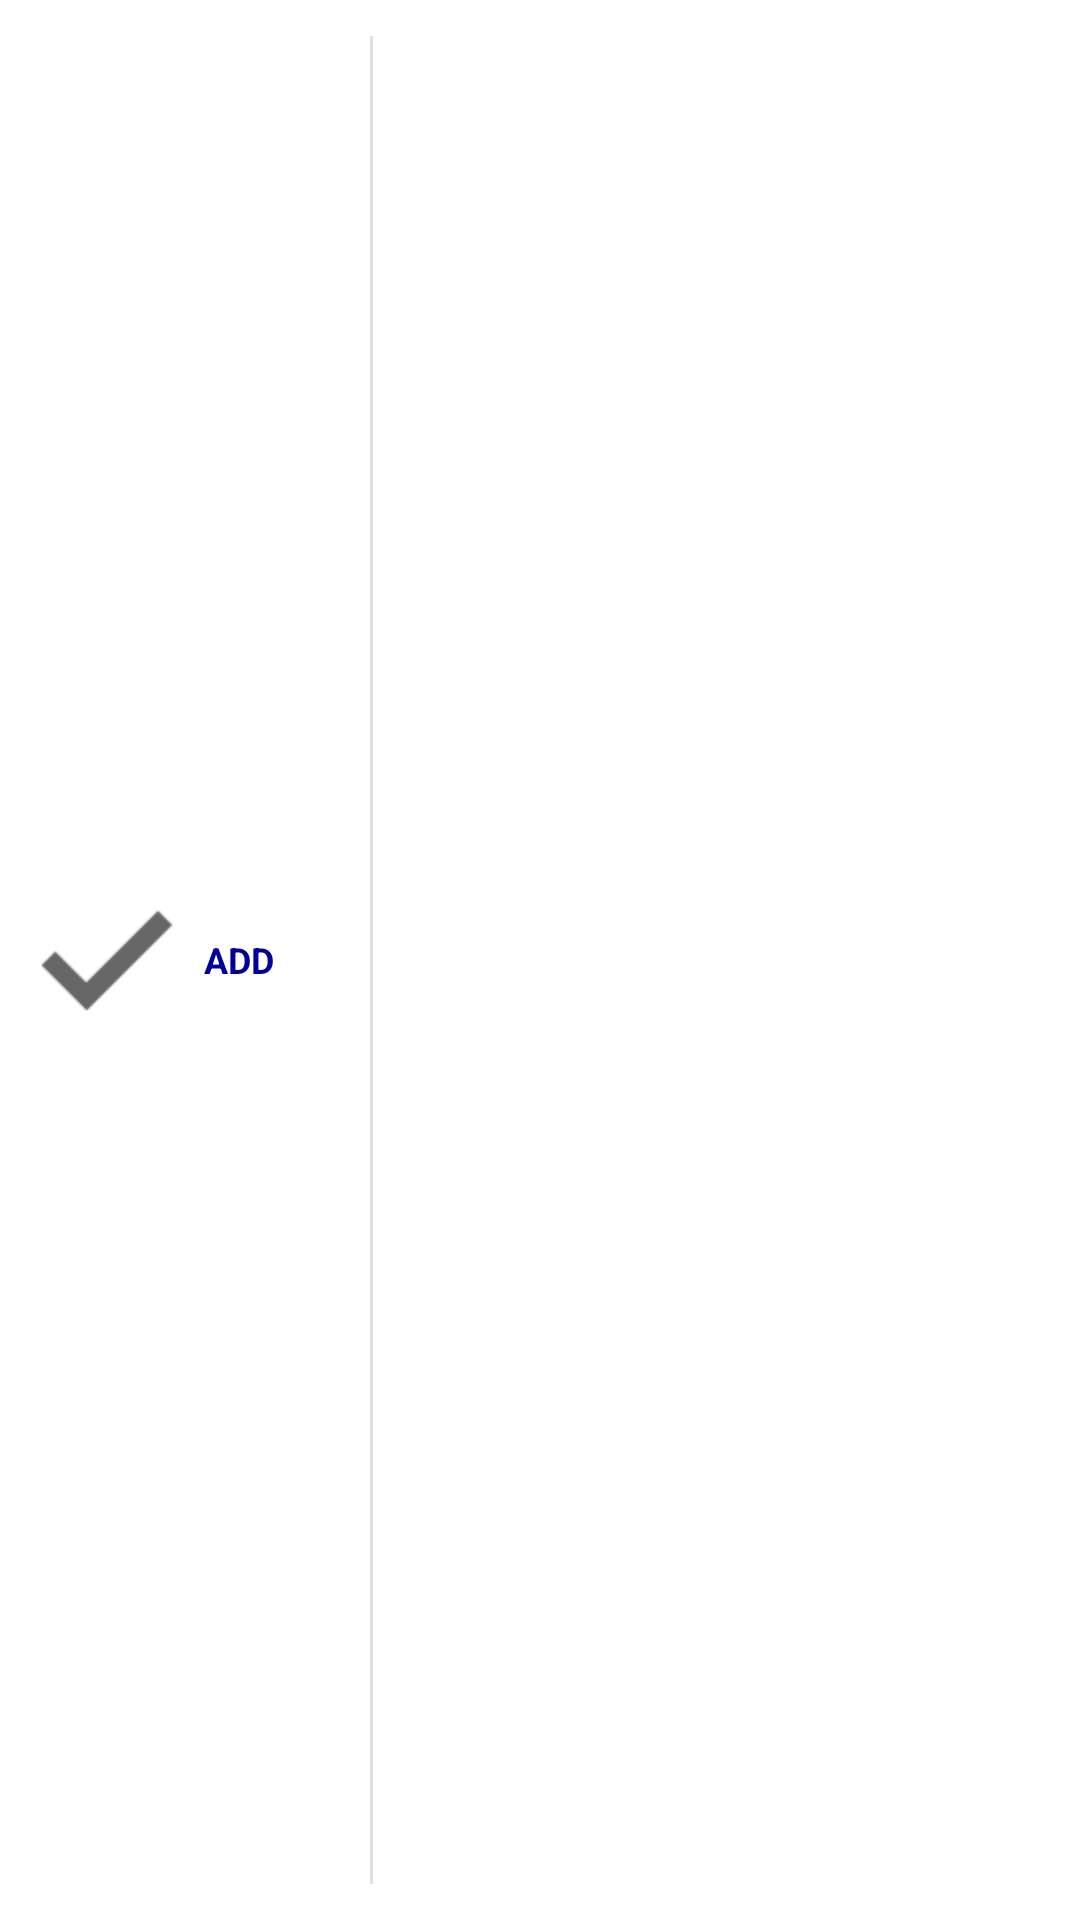

Named icons in this screenshot (1080px×1920px) and their centers, (x,y):
accept: (107,961)
